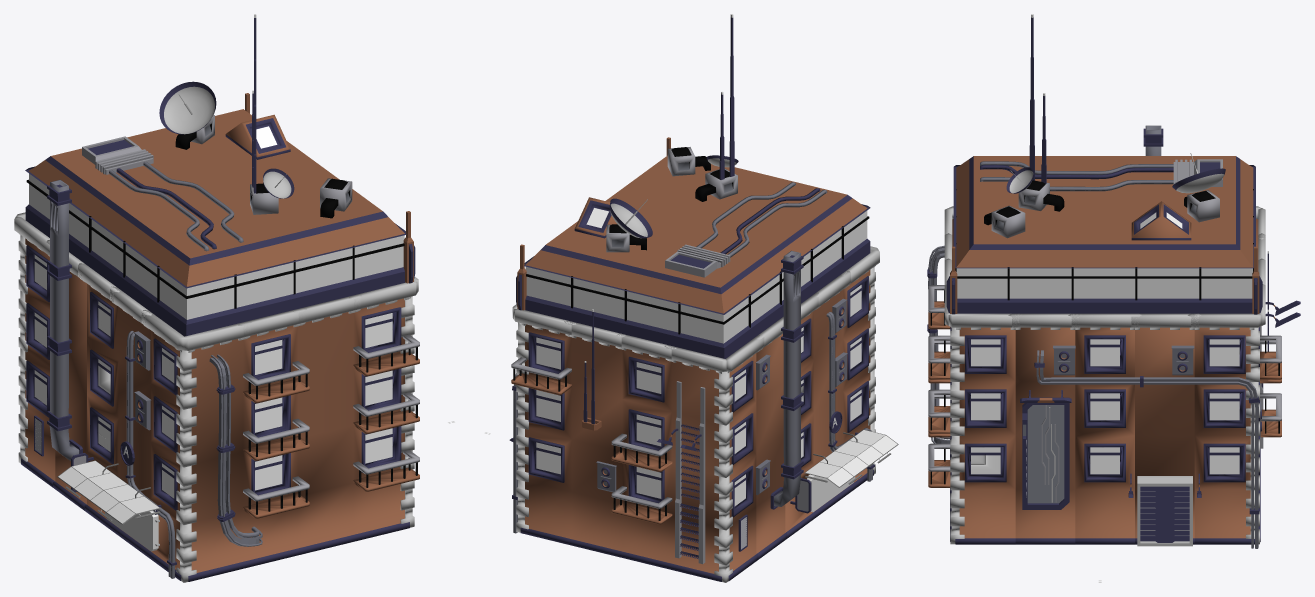
3 renders of one model, left to right at view 1: azimuth 30°, elevation 25°; view 2: azimuth 150°, elevation 25°; view 3: azimuth 270°, elevation 25°, orthographic. The views are drawn at different scales.
Visible parts, largest first — view 1: Line; view 2: Line; view 3: Line.
Boxes of the visible parts, x1,y1,x2,y2 form: Line: (14,14,454,582); Line: (484,14,898,582); Line: (927,14,1300,582).
Bounding box in the file's own units: 718 × 886 × 626.
